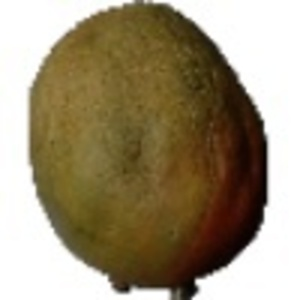mamão: (19, 4, 281, 289)
